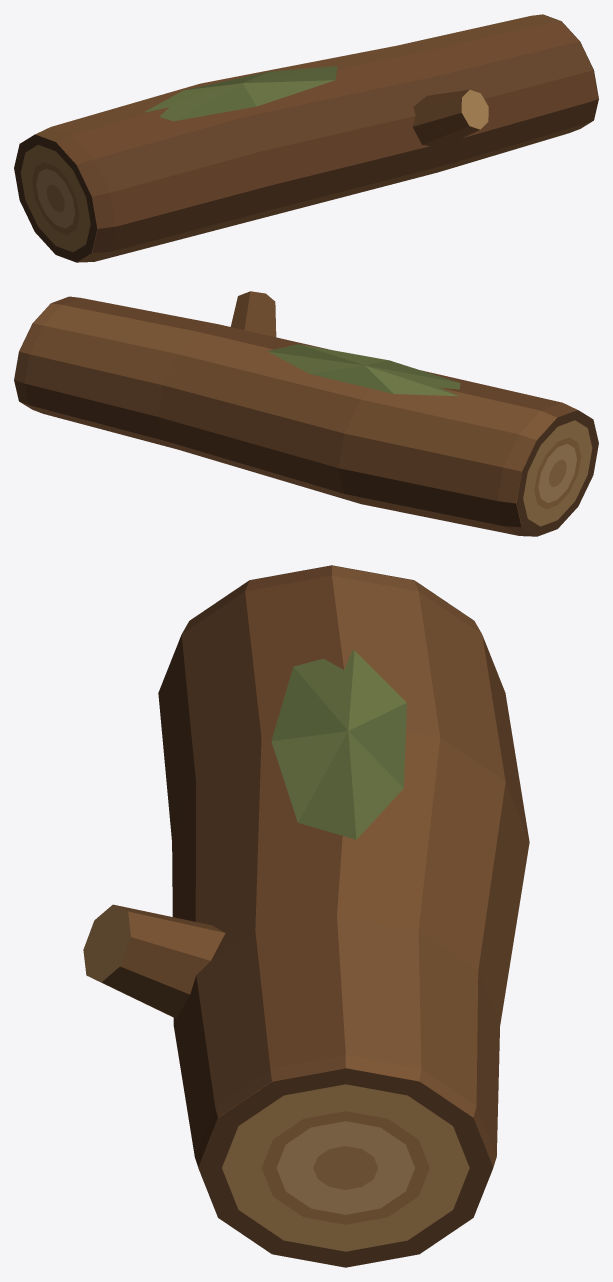
File: FallenLog.glb
3 views of the same model, one above another, from view 1: azimuth 30°, elevation 25°; view 2: azimuth 150°, elevation 25°; view 3: azimuth 270°, elevation 25° (orthographic). The views are drawn at different scales.
Parts seen in each view (by area): view 1: FallenLog_Timber; view 2: FallenLog_Timber; view 3: FallenLog_Timber.
Boxes of the visible parts, left/top/right/bottom form: FallenLog_Timber: left=14, top=14, right=598, bottom=262; FallenLog_Timber: left=14, top=291, right=598, bottom=536; FallenLog_Timber: left=83, top=565, right=529, bottom=1267.
Bounding box in the file's own units: 1.84 × 0.432 × 0.7071.
